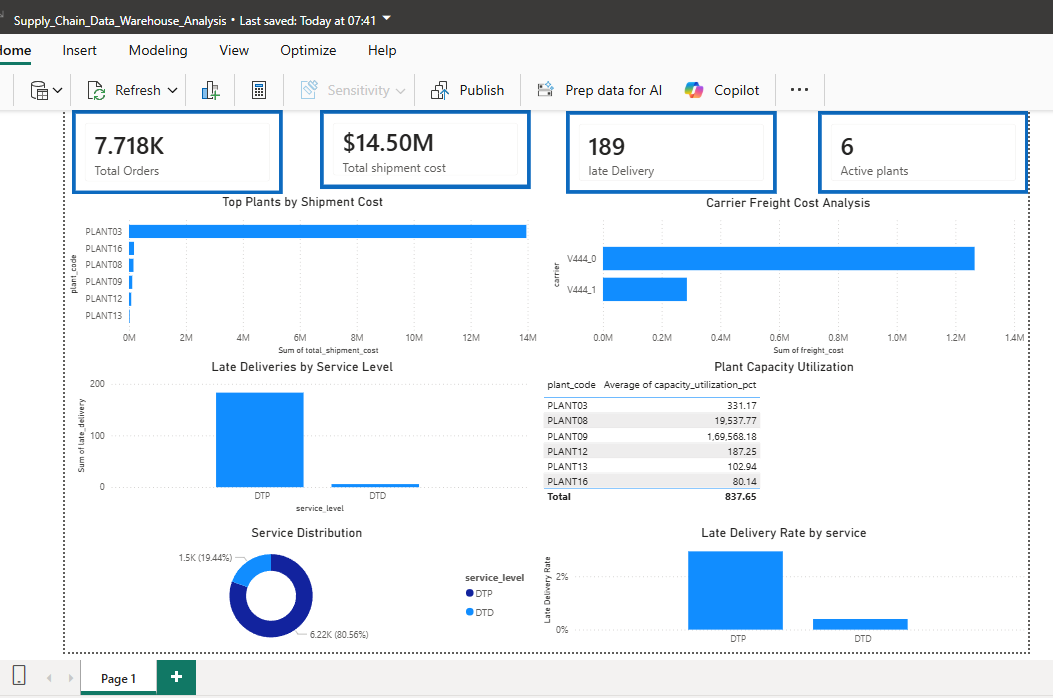

What the dashboard file says about the page in this screenshot:
{"tool":"powerbi","page":{"name":"Page 1","canvas":[1280,720],"ordinal":0},"visuals":[{"type":"cardVisual","fields":{"Data":["CountNonNull(fact_orders.order_id)"]},"box":[9.3,0,280.3,112.1],"z":0},{"type":"cardVisual","fields":{"Data":["Sum(fact_orders.total_shipment_cost)"]},"box":[338.2,0,280.3,104.6],"z":1000},{"type":"cardVisual","fields":{"Data":["Sum(fact_orders.late_delivery)"]},"box":[665.2,1.9,280.3,110.2],"z":2000},{"type":"cardVisual","fields":{"Data":["Count(fact_orders.plant_code)"]},"box":[999.7,1.9,280.3,110.2],"z":3000},{"type":"clusteredBarChart","title":"Top Plants by Shipment Cost","fields":{"Category":["fact_orders.plant_code"],"Y":["Sum(fact_orders.total_shipment_cost)"]},"box":[0,112.1,631.6,218.6],"z":4000},{"type":"clusteredBarChart","title":"Carrier Freight Cost Analysis","fields":{"Category":["fact_orders.carrier"],"Y":["Sum(fact_orders.freight_cost)"]},"box":[641.6,112.7,638.4,217.5],"z":5000},{"type":"clusteredColumnChart","title":"Late Deliveries by Service Level","fields":{"Category":["fact_orders.service_level"],"Y":["Sum(fact_orders.late_delivery)"]},"box":[11.2,330.7,609.2,209.3],"z":6000},{"type":"tableEx","title":"Plant Capacity Utilization","fields":{"Values":["fact_orders.plant_code","Avg(fact_orders.capacity_utilization_pct)"]},"box":[629,330.2,651,209.7],"z":7000},{"type":"donutChart","title":"Service Distribution","fields":{"Category":["fact_orders.service_level"],"Y":["CountNonNull(fact_orders.order_id)"]},"box":[11,550.8,621.2,169],"z":8000},{"type":"clusteredColumnChart","title":"Late Delivery Rate by service","fields":{"Category":["fact_orders.service_level"],"Y":["fact_orders.Late Delivery Rate"]},"box":[629,550.8,651,169],"z":9000}]}

Visuals, with their boxes on the page's 1280x720 design canvas (x1, y1, x2, y2). These are canvas units, not pixel positions in the 1053x698 screenshot, which may show the page scaled, cropped or inside an application window:
cardVisual - CountNonNull(fact_orders.order_id): {"x1": 9, "y1": 0, "x2": 290, "y2": 112}
cardVisual - Sum(fact_orders.total_shipment_cost): {"x1": 338, "y1": 0, "x2": 618, "y2": 105}
cardVisual - Sum(fact_orders.late_delivery): {"x1": 665, "y1": 2, "x2": 946, "y2": 112}
cardVisual - Count(fact_orders.plant_code): {"x1": 1000, "y1": 2, "x2": 1280, "y2": 112}
"Top Plants by Shipment Cost" clusteredBarChart: {"x1": 0, "y1": 112, "x2": 632, "y2": 331}
"Carrier Freight Cost Analysis" clusteredBarChart: {"x1": 642, "y1": 113, "x2": 1280, "y2": 330}
"Late Deliveries by Service Level" clusteredColumnChart: {"x1": 11, "y1": 331, "x2": 620, "y2": 540}
"Plant Capacity Utilization" tableEx: {"x1": 629, "y1": 330, "x2": 1280, "y2": 540}
"Service Distribution" donutChart: {"x1": 11, "y1": 551, "x2": 632, "y2": 720}
"Late Delivery Rate by service" clusteredColumnChart: {"x1": 629, "y1": 551, "x2": 1280, "y2": 720}
